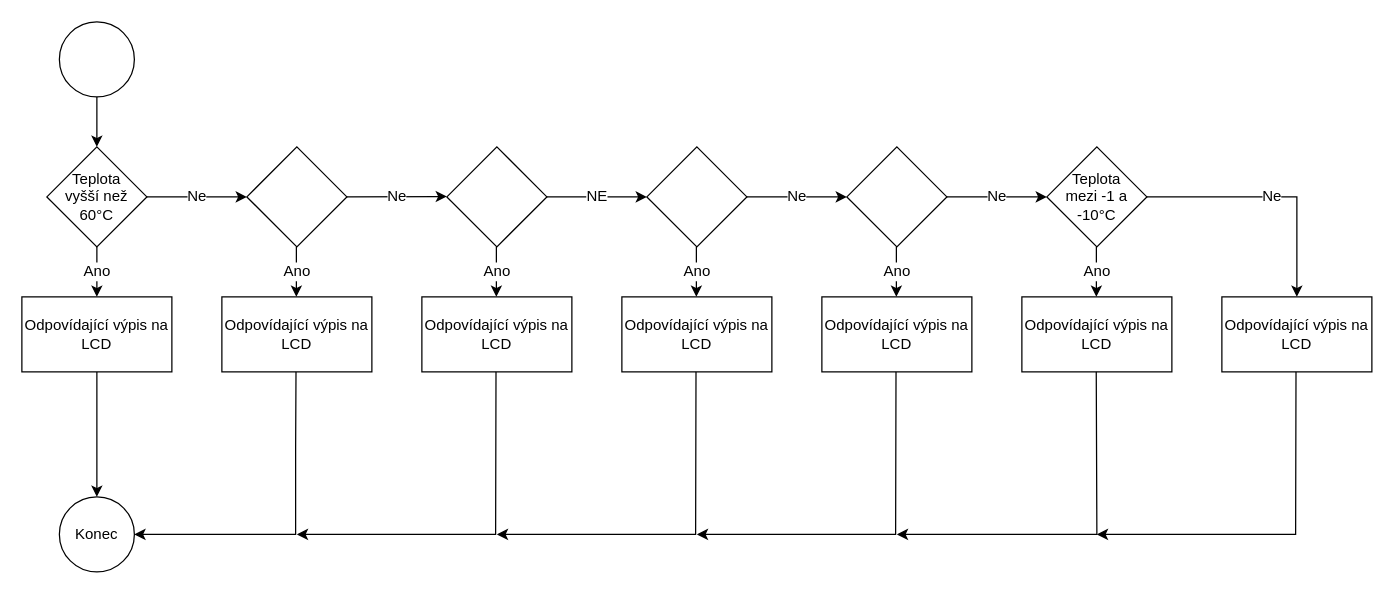
Some shapes in this 1394 by 594 pixel diagram are drawn without their labels. Each missing label, with the centre of its shape:
"Start" belongs at pixel 96 59.
"Teplota mezi -1 a 0°C" belongs at pixel 896 196.
"Teplota mezi 1 a 0°C" belongs at pixel 696 196.
"Teplota mezi 10 a 1°C" belongs at pixel 496 196.
"Teplota vyšší než 10°C" belongs at pixel 296 196.
